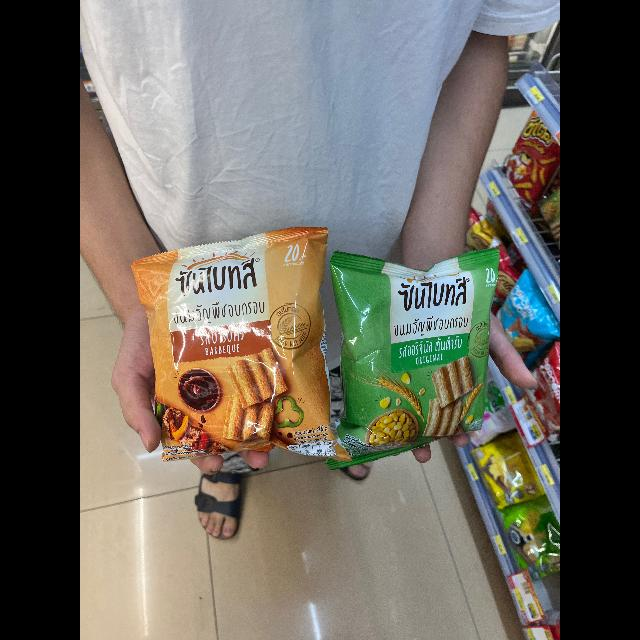snack_bag: (120, 221, 340, 459), (325, 231, 519, 489)
